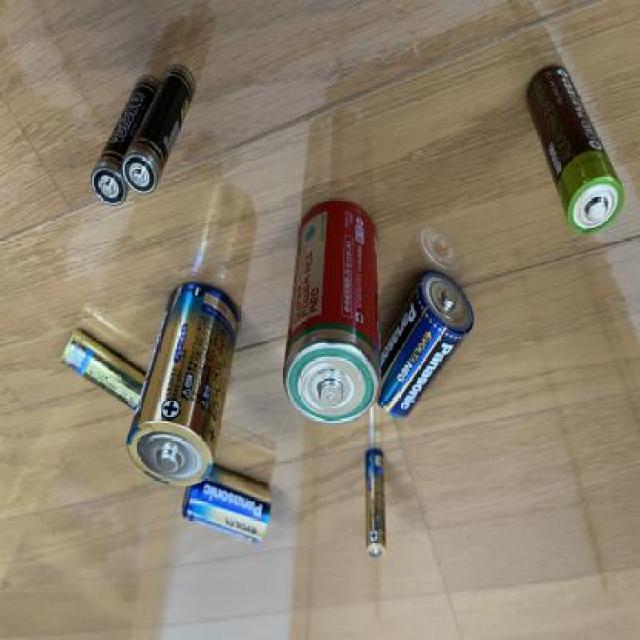hazardous waste: (125, 282, 242, 490), (283, 198, 380, 422), (522, 66, 626, 240), (368, 266, 476, 420), (121, 66, 194, 206), (89, 74, 160, 206), (183, 463, 277, 546), (63, 332, 152, 414), (362, 446, 389, 565)
